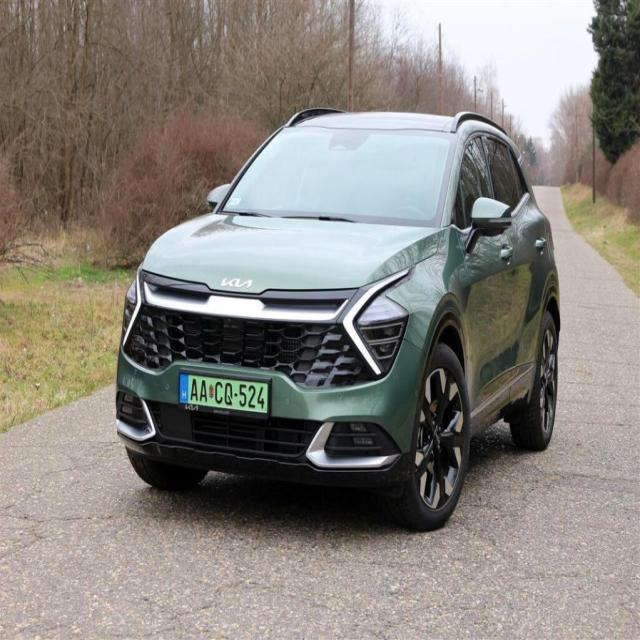licence: (179, 368, 273, 420)
